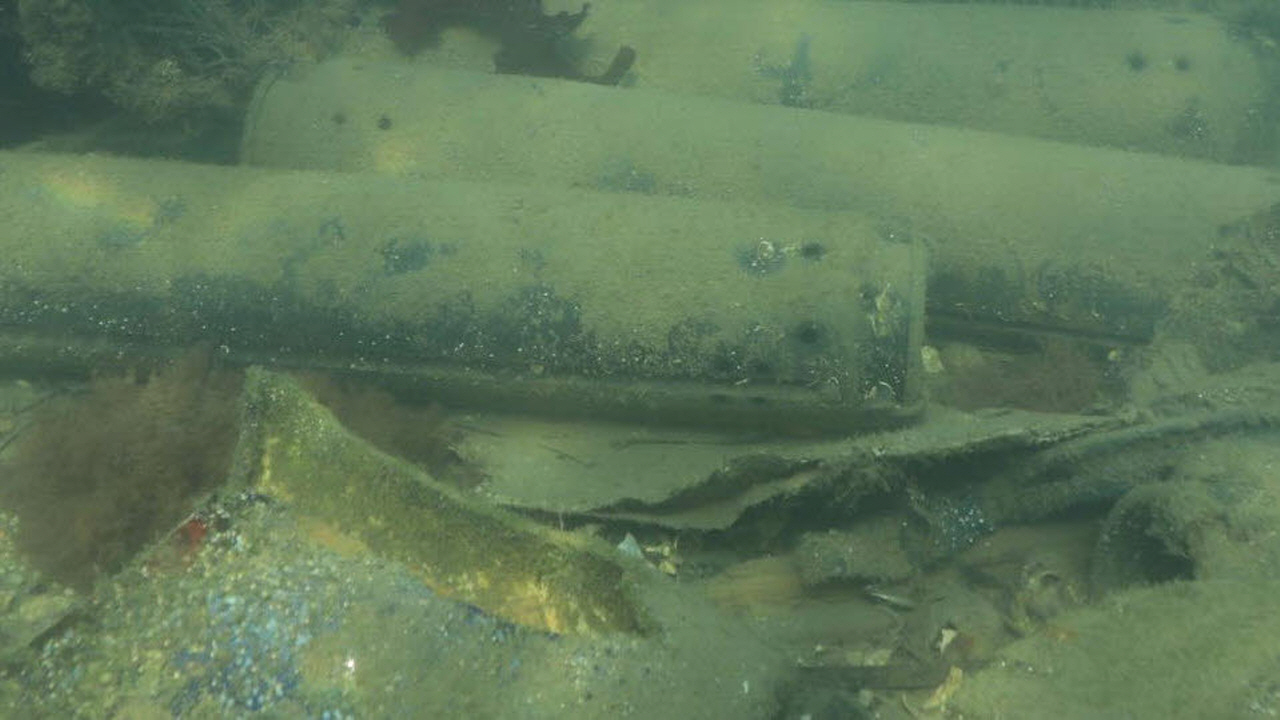eel fish trap: (240, 55, 1280, 345), (0, 150, 928, 414), (347, 0, 1276, 162)
